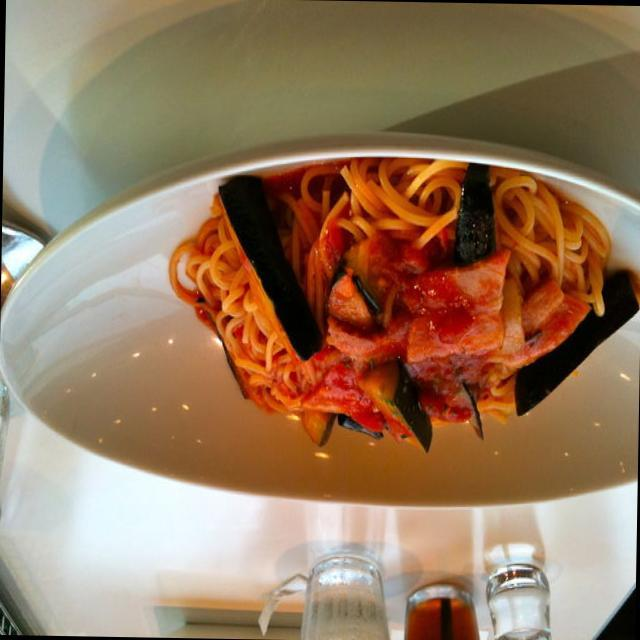Pasta: (178, 150, 632, 456)
